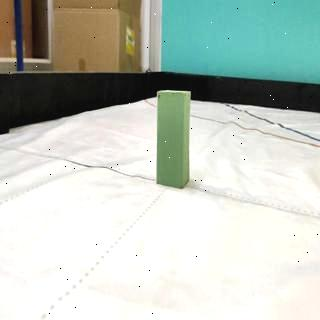greenbox: (155, 88, 192, 188)
